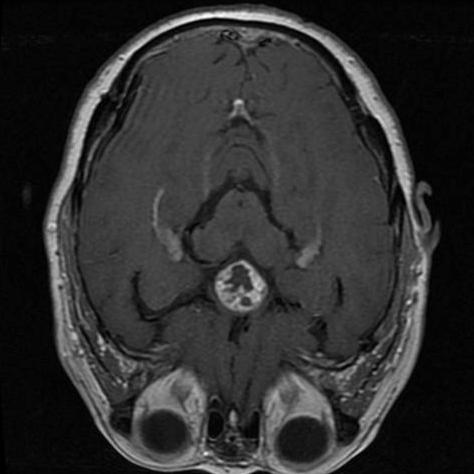Tumour-Pituitary: (209, 253, 272, 315)
